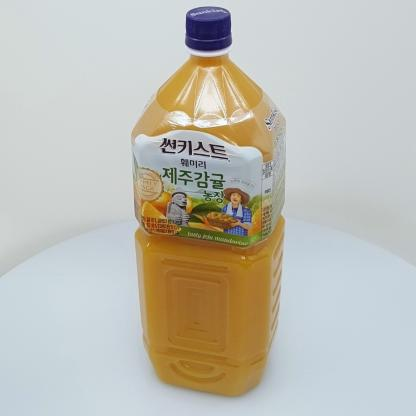-----------2L: (131, 7, 286, 396)
